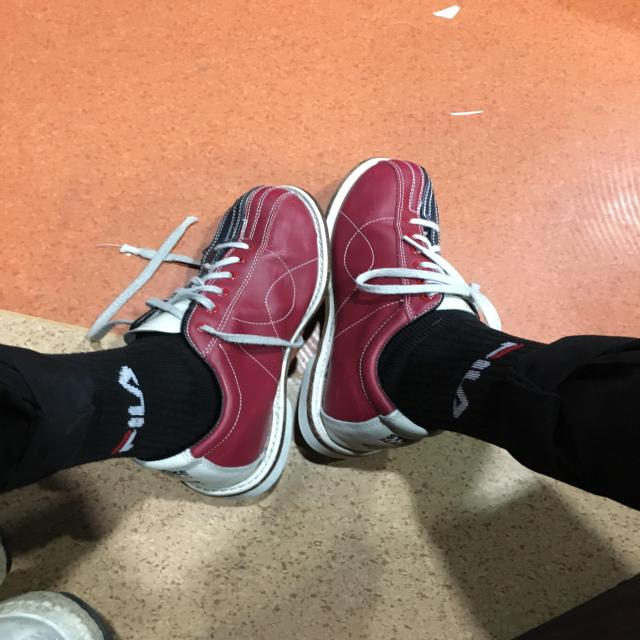shoe: (312, 130, 488, 492), (147, 152, 290, 508)
